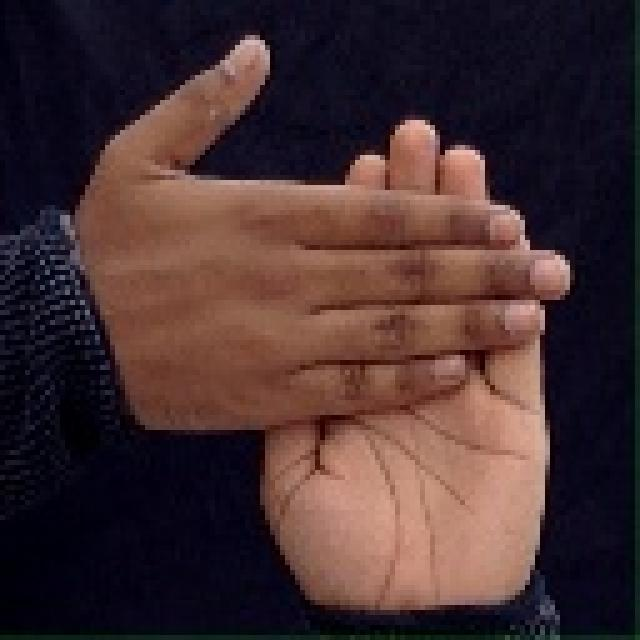Alphabet-H: (74, 31, 562, 616)
